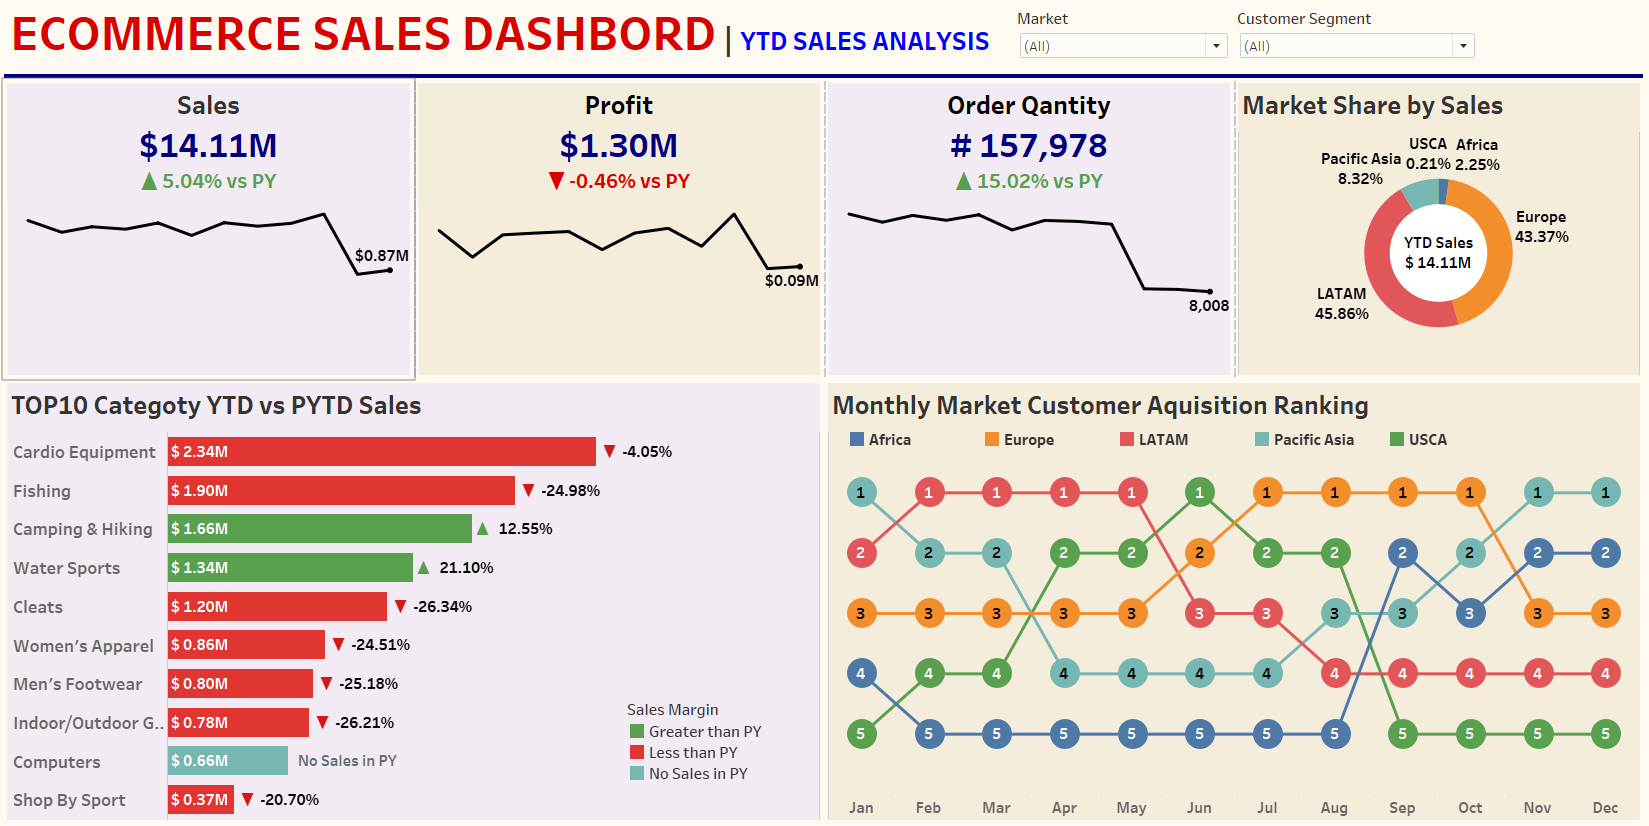

This screenshot's page, from the dashboard's own definition file:
{"tool":"tableau","page":{"name":"Sales Dashboard","canvas":[1000,1000],"units":"permille","ordinal":1},"visuals":[{"type":"title","box":[4.8,8.8,990.3,92.2]},{"type":"filter","title":"Sales KPI","param":"[federated.036focg1fvtnnn10605kj0ahomis].[none:Market:nk]","box":[616.8,31.7,129.2,70.5]},{"type":"filter","title":"Sales KPI","param":"[federated.036focg1fvtnnn10605kj0ahomis].[none:Customer Segment:nk]","box":[749.6,31.7,145.4,62.3]},{"type":"blank","box":[4.8,101,990.3,6.6]},{"type":"worksheet","title":"Sales KPI","mark":"Automatic","rows":["Sales"],"cols":["Order Date"],"box":[4.8,107.6,248,360.1]},{"type":"worksheet","title":"Profit KPI","mark":"Automatic","rows":["Profit Per Order"],"cols":["Order Date"],"box":[252.9,107.6,247.4,360.1]},{"type":"worksheet","title":"Order Quantity KPI","mark":"Automatic","rows":["Order Quantity"],"cols":["Order Date"],"box":[500.3,107.6,247.4,360.1]},{"type":"worksheet","title":"Market Share by Sales","mark":"Pie","cols":["Calculation_1969480472869732357","Calculation_1969480472869769223"],"box":[747.7,107.6,247.4,360.1]},{"type":"worksheet","title":"TOP10 Categoty YTD vs PYTD Sales","mark":"Bar","rows":["Category Name"],"cols":["Calculation_1969480472870637576","Calculation_1969480472870637576"],"box":[4.8,467.6,495.2,523.6]},{"type":"worksheet","title":"Monthly Market Customer Aquisition Ranking","mark":"Automatic","cols":["Order Date"],"box":[500,467.6,495.2,523.6]},{"type":"legend","title":"Monthly Market Customer Aquisition Ranking","param":"[federated.036focg1fvtnnn10605kj0ahomis].[none:Market:nk]","box":[514.2,526.4,442.4,34.1]},{"type":"legend","title":"TOP10 Categoty YTD vs PYTD Sales","param":"[federated.036focg1fvtnnn10605kj0ahomis].[usr:Calculation_1969480472881086475:nk","box":[381.4,843.7,111,118.7]}]}

Visuals, with their boxes on the dashboard's canvas, which has no fixed pixel size, in thousandths of its width and height (x1, y1, x2, y2). These are canvas units, not pixel positions in the 1649x826 screenshot, which may show the page scaled, cropped or inside an application window:
title: (5,9,995,101)
"Sales KPI" filter: (617,32,746,102)
"Sales KPI" filter: (750,32,895,94)
blank: (5,101,995,108)
"Sales KPI" worksheet: (5,108,253,468)
"Profit KPI" worksheet: (253,108,500,468)
"Order Quantity KPI" worksheet: (500,108,748,468)
"Market Share by Sales" worksheet (Pie marks): (748,108,995,468)
"TOP10 Categoty YTD vs PYTD Sales" worksheet (Bar marks): (5,468,500,991)
"Monthly Market Customer Aquisition Ranking" worksheet: (500,468,995,991)
"Monthly Market Customer Aquisition Ranking" legend: (514,526,957,560)
"TOP10 Categoty YTD vs PYTD Sales" legend: (381,844,492,962)
